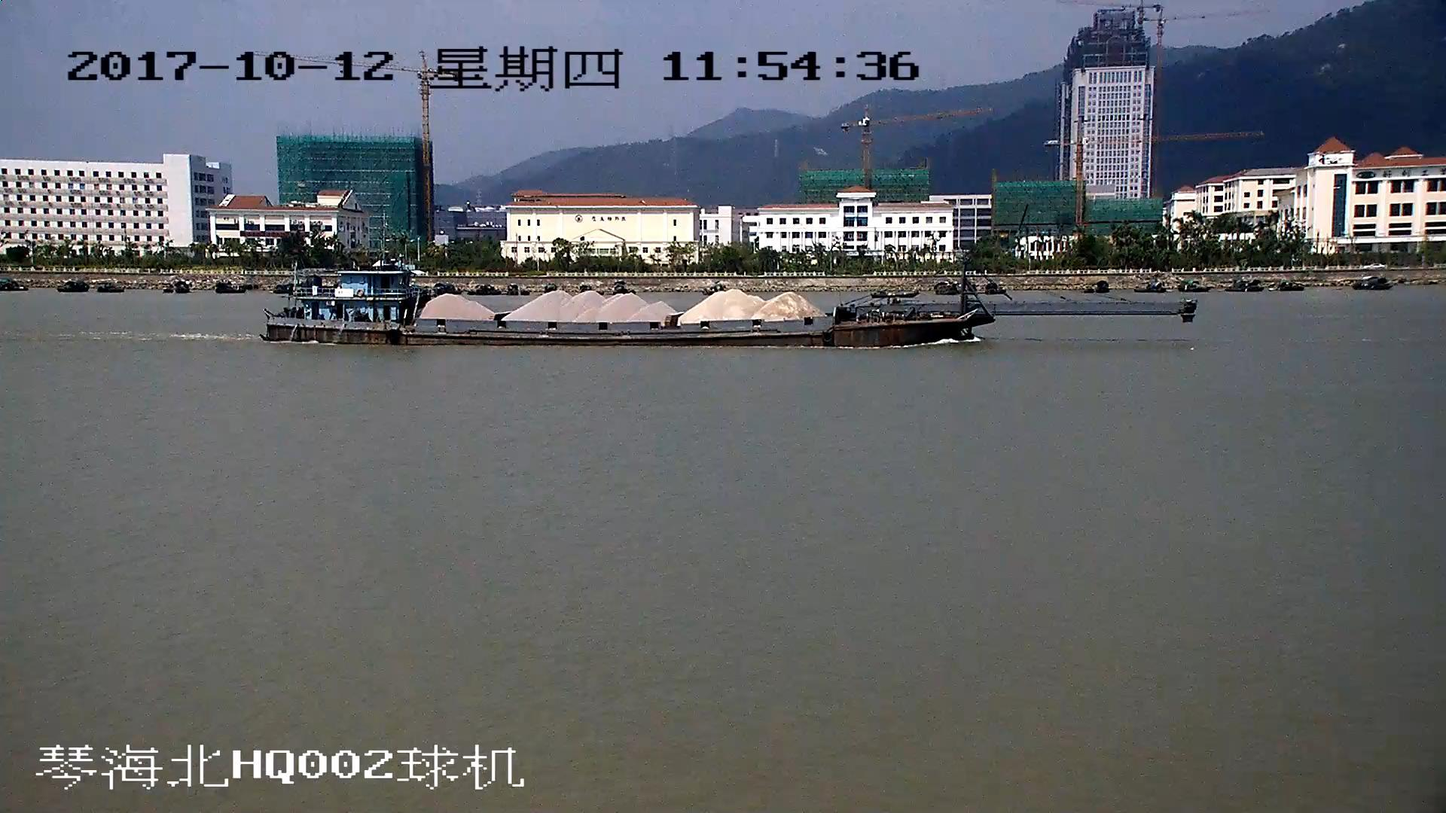ore carrier: (265, 255, 1194, 349)
